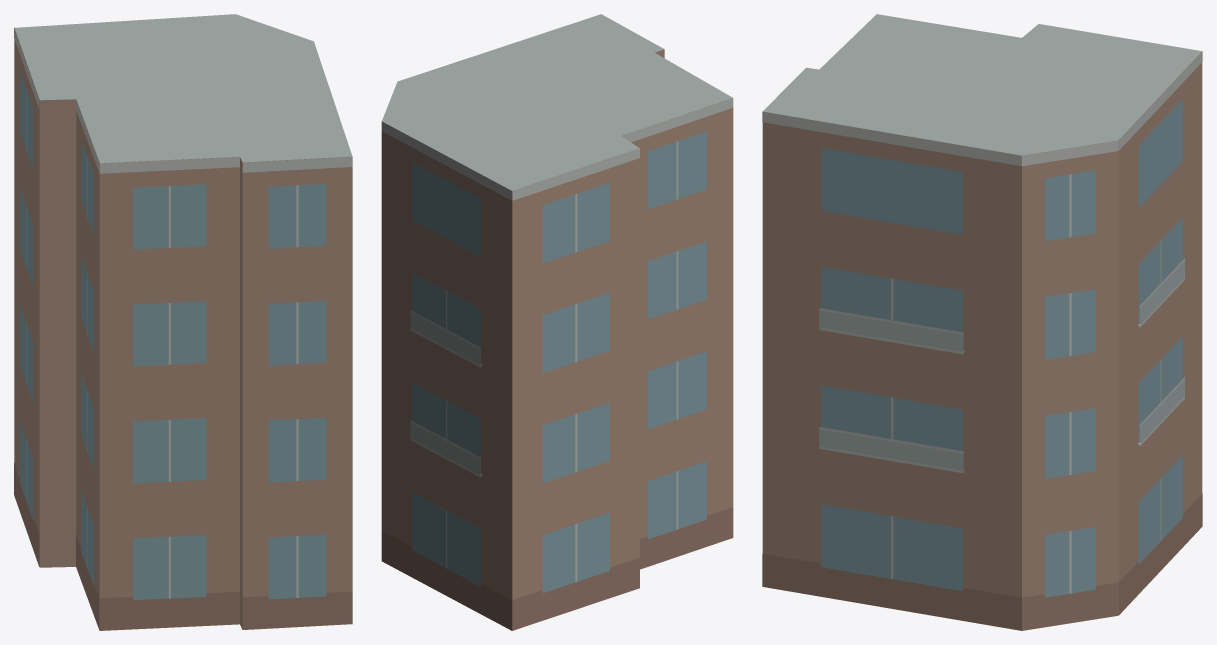
Rendered from survey-upis-32497239.glb.
The picture shows the model from 3 angles, left to right: view 1: azimuth 30°, elevation 25°; view 2: azimuth 150°, elevation 25°; view 3: azimuth 270°, elevation 25°; orthographic projection. The views are drawn at different scales.
Parts seen in each view (by area): view 1: survey-upis-32497239.tmp; view 2: survey-upis-32497239.tmp; view 3: survey-upis-32497239.tmp.
Part boxes in pixels (bbox=[...]): survey-upis-32497239.tmp: bbox=[14, 14, 352, 630]; survey-upis-32497239.tmp: bbox=[381, 14, 733, 630]; survey-upis-32497239.tmp: bbox=[762, 14, 1202, 630].
Size of the model in its own units: 6.98 by 10.9 by 9.16.
